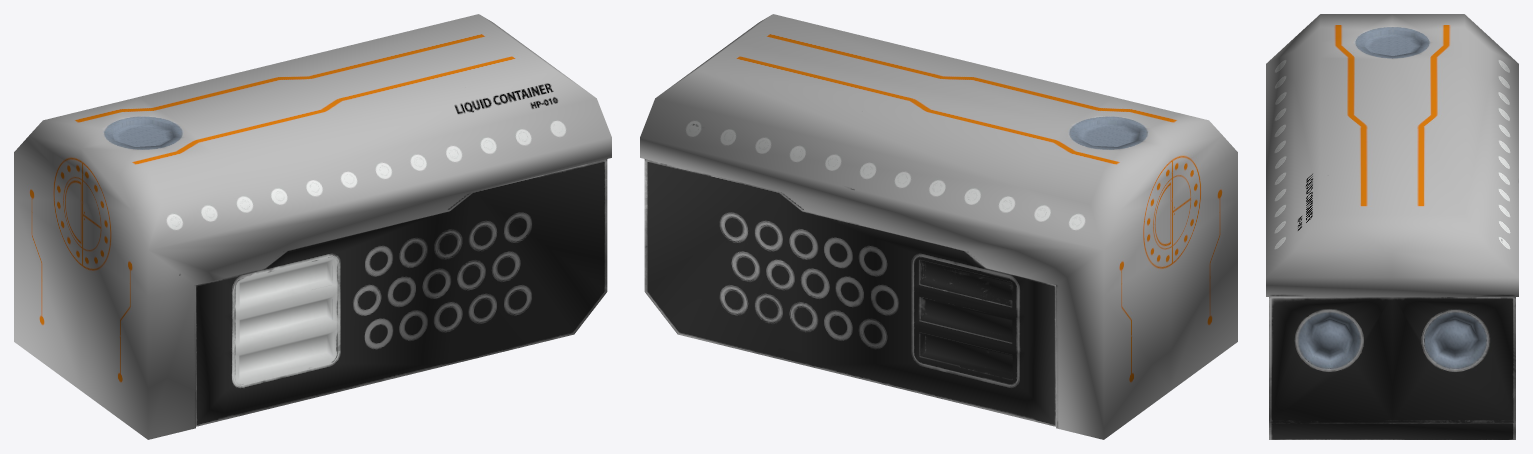
The picture shows the model from 3 angles, left to right: view 1: azimuth 30°, elevation 25°; view 2: azimuth 150°, elevation 25°; view 3: azimuth 270°, elevation 25°; orthographic projection. The views are drawn at different scales.
Visible parts, largest first — view 1: ContainerLP; view 2: ContainerLP; view 3: ContainerLP.
Boxes of the visible parts, x1,y1,x2,y2 form: ContainerLP: [14, 14, 611, 439]; ContainerLP: [640, 14, 1237, 439]; ContainerLP: [1266, 14, 1518, 439].
Size of the model in its own units: 120 by 60.06 by 60.12.
1 material, 1 textured.
